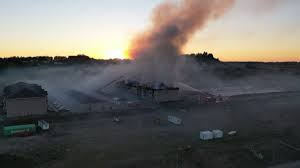smoke: (117, 1, 228, 89)
